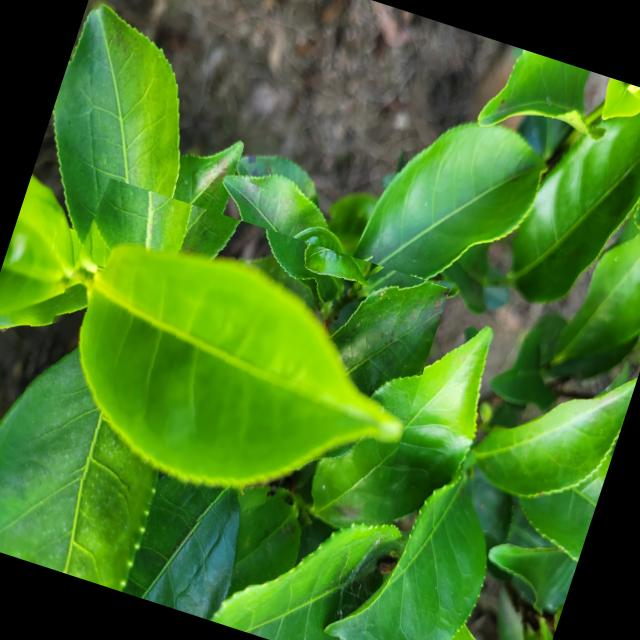Category B(2-4 days): (0, 171, 449, 579)
